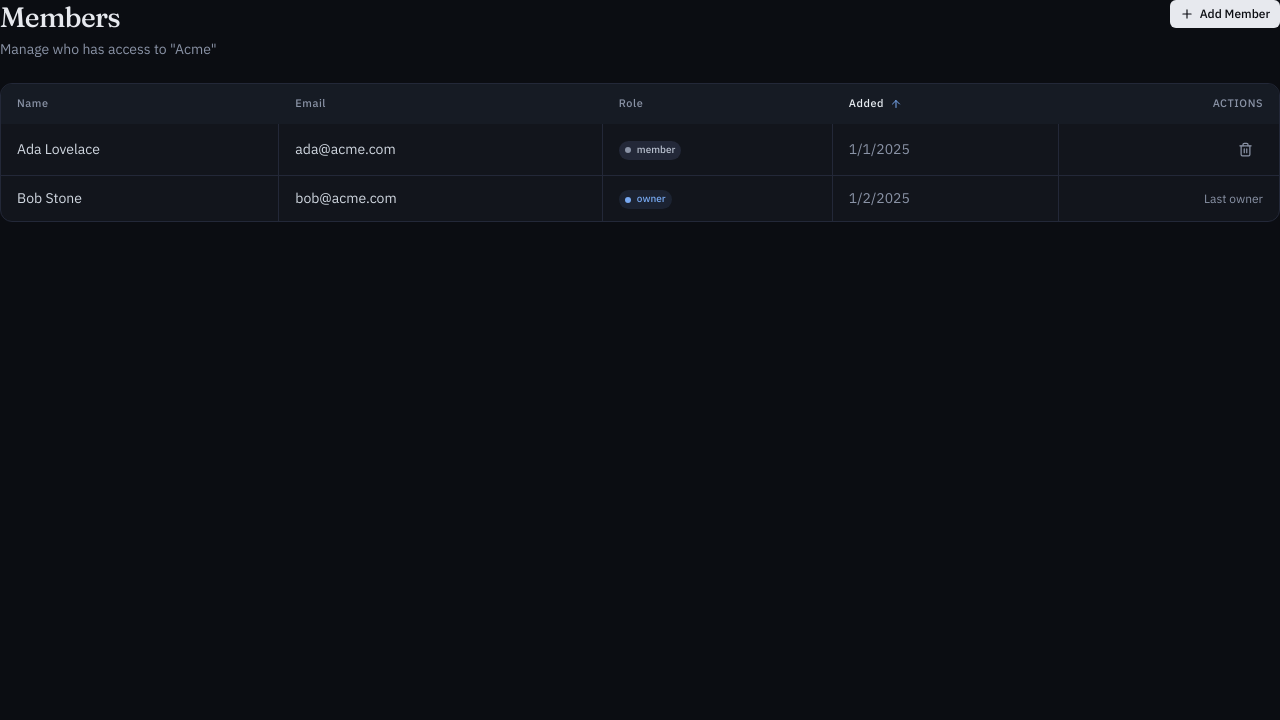
ProjectMembersPage — removal does not freeze the list › shows a member added after a removal once the server refetches
Expected: the text "ada@acme.com" is shown, 279,124 -> 602,175
Expected: the text "bob@acme.com" is shown, 279,175 -> 602,221
Click the button titled "Remove member".
click(1246, 149)  # box 1228,136 -> 1263,162
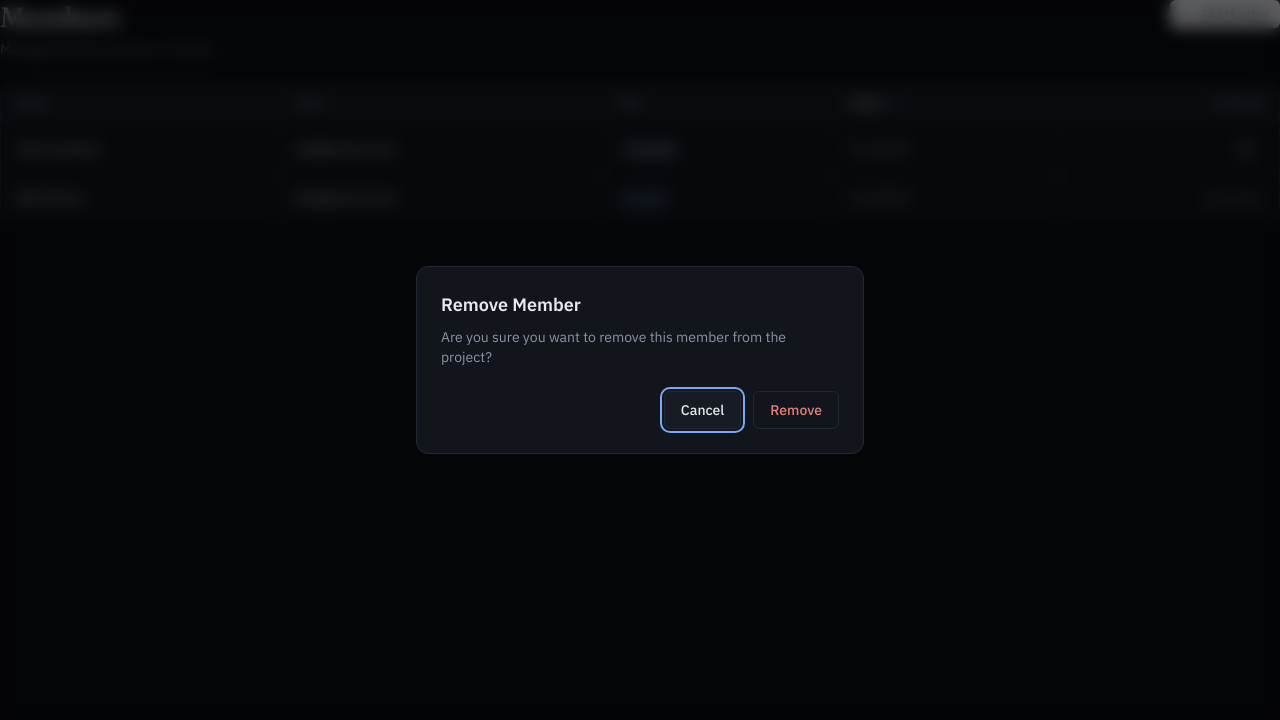
Click the button "Remove".
click(796, 410)  # box 753,391 -> 839,429
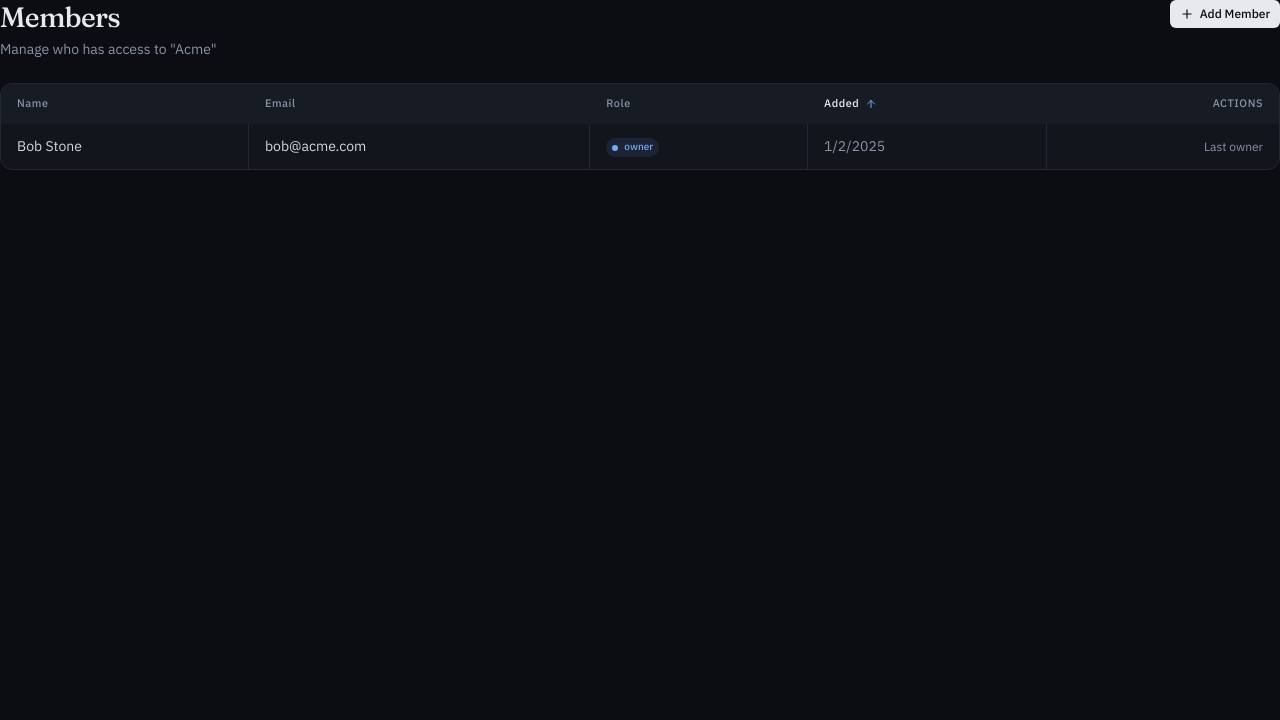
Expected: the text "bob@acme.com" is shown, 248,124 -> 590,169
Expected: the text "ada@acme.com" is gone
# ── Trigger a server refetch: adding a member refetches the list.
Click the button "Add Member".
click(1225, 14)  # box 1170,0 -> 1279,28
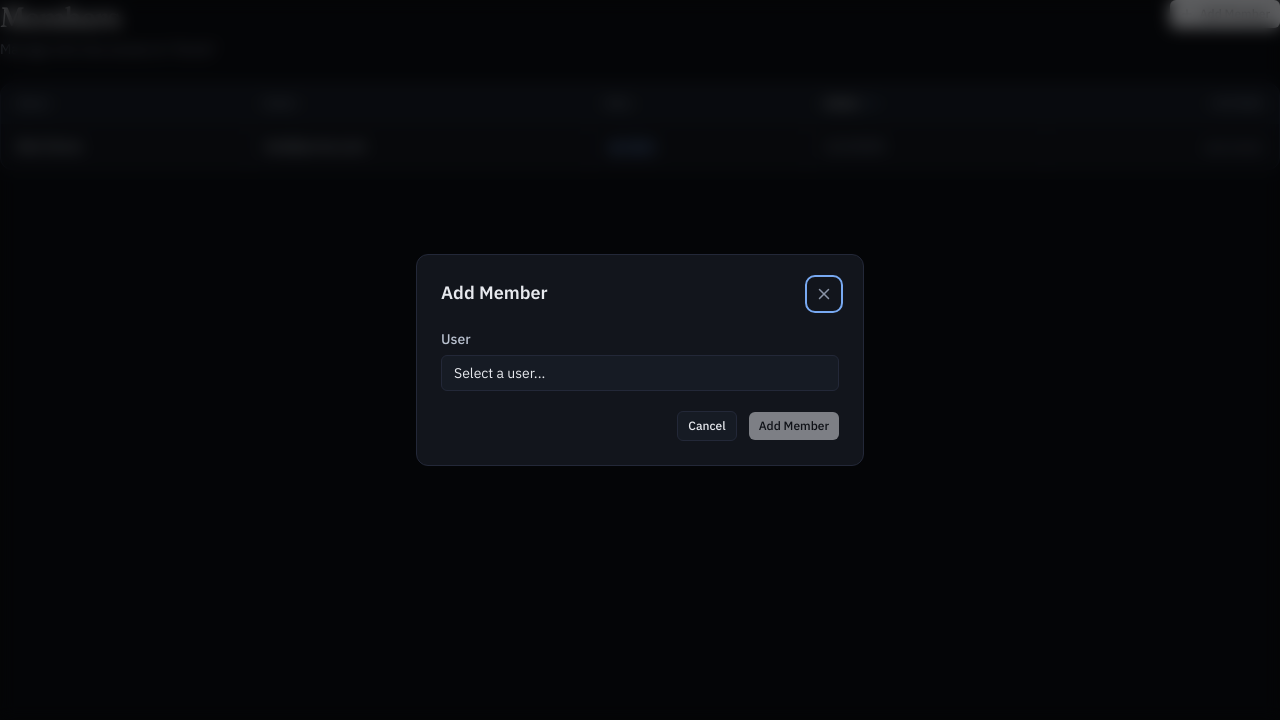
Select "carol@acme.com" in the dropdown labelled "User" at (640, 373), box 441,355 -> 839,391
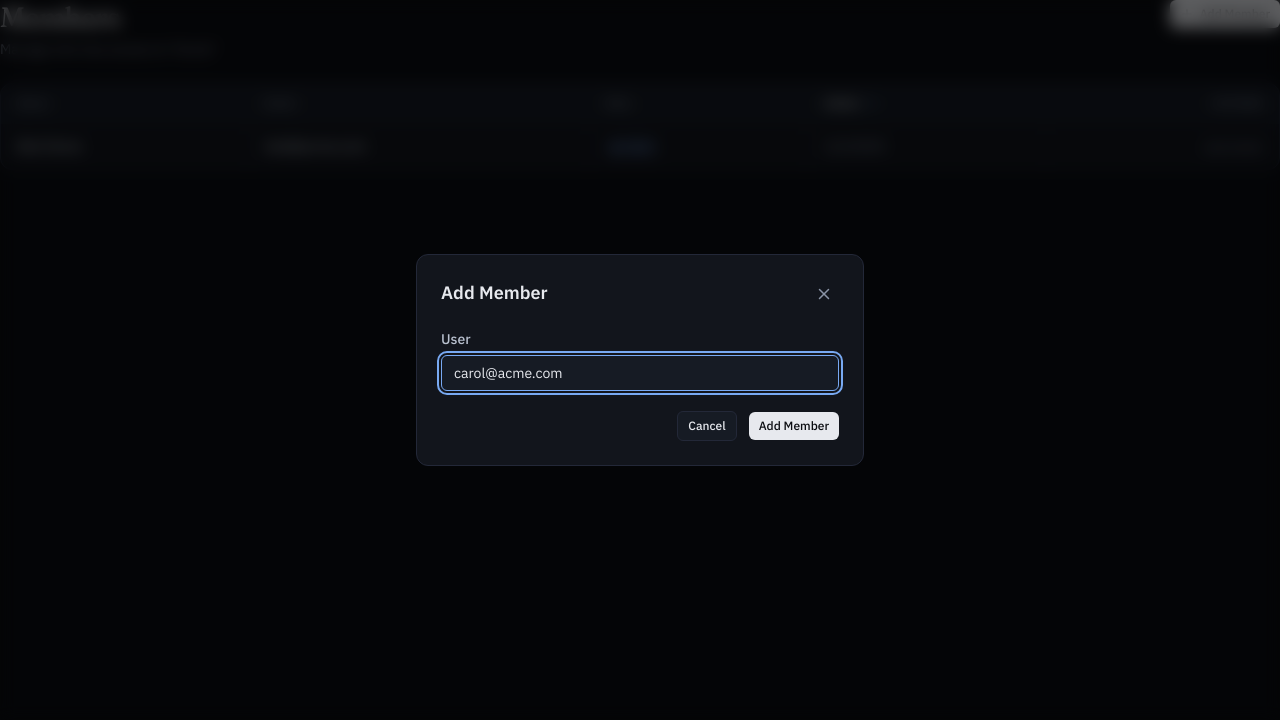
Click the button "Add Member".
click(794, 426)  # box 749,412 -> 839,440
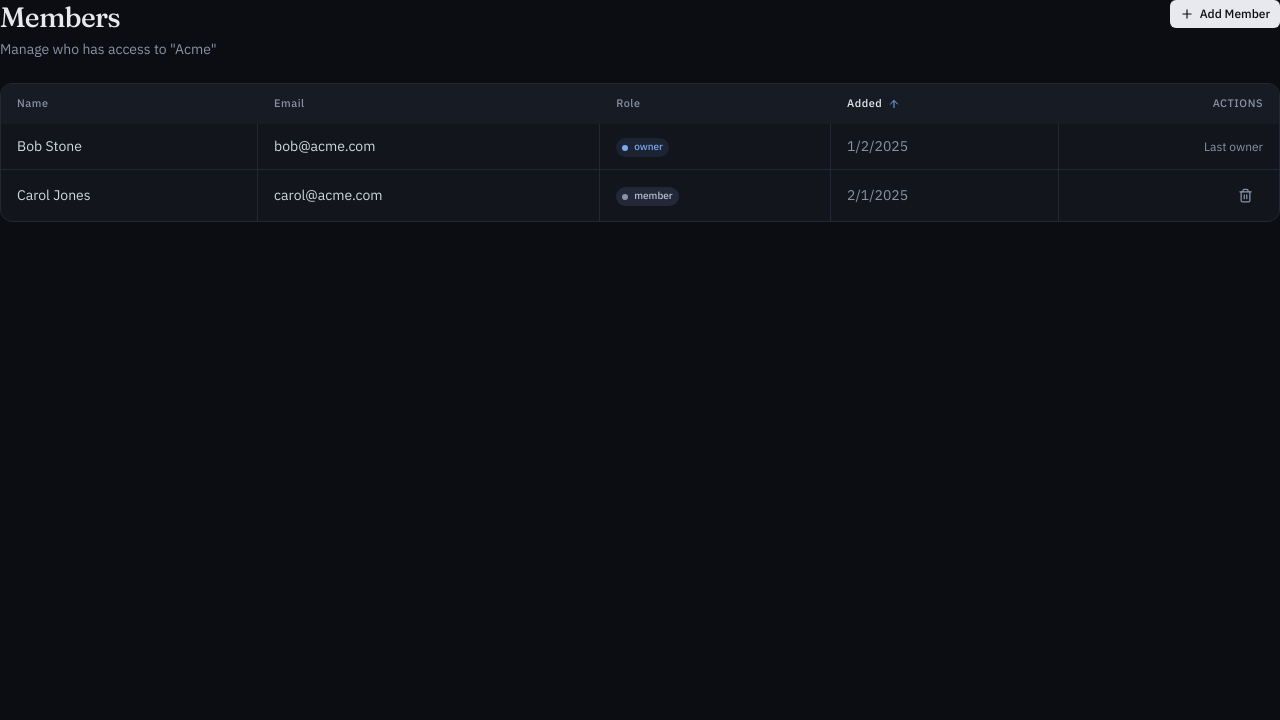
Expected: the text "ada@acme.com" is not shown
Expected: the text "carol@acme.com" is shown, 258,169 -> 600,221
